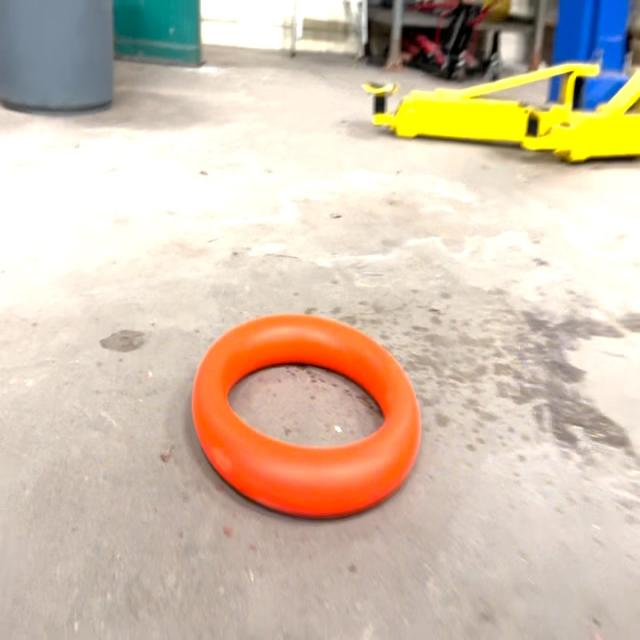note: (188, 311, 424, 523)
